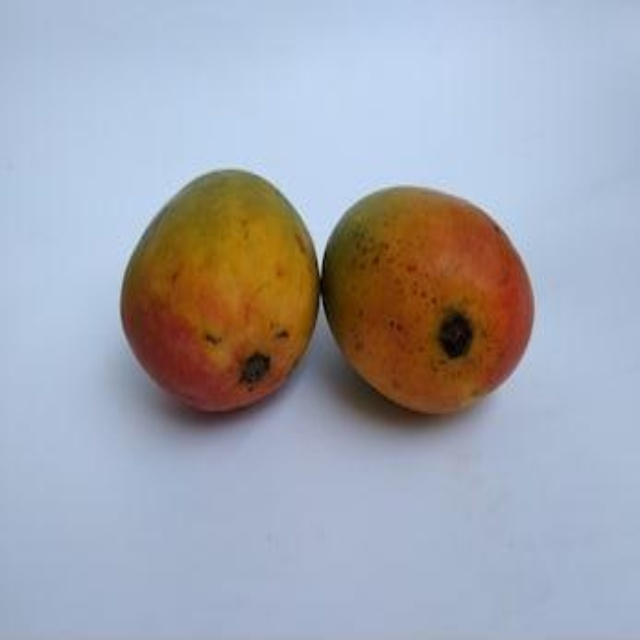mango: (323, 182, 531, 419), (125, 167, 315, 425)
